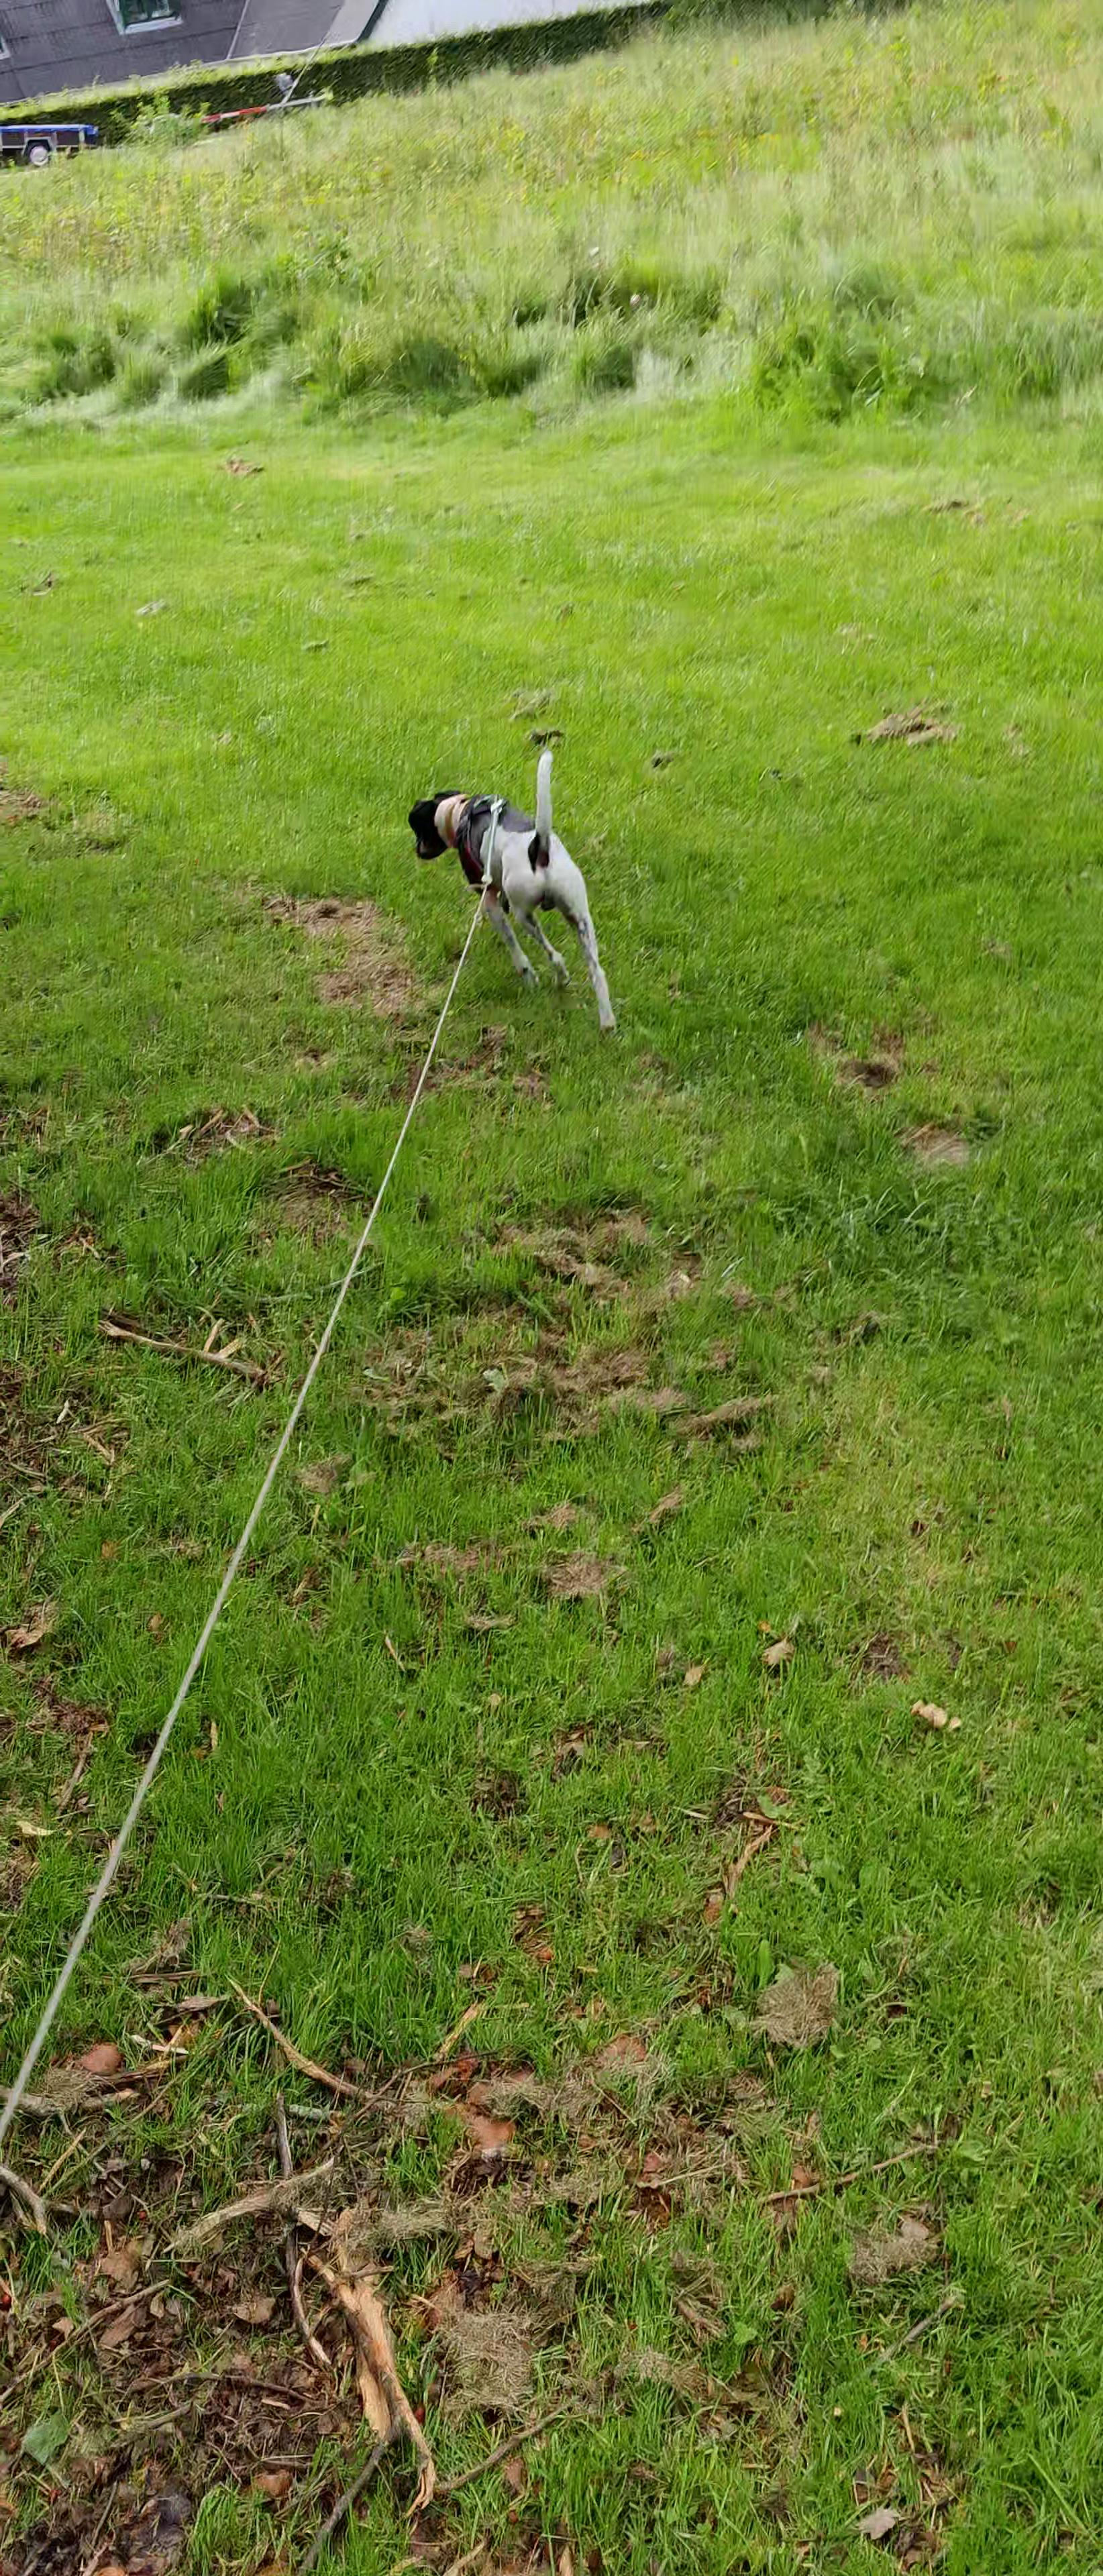Dog: (393, 736, 626, 1043)
